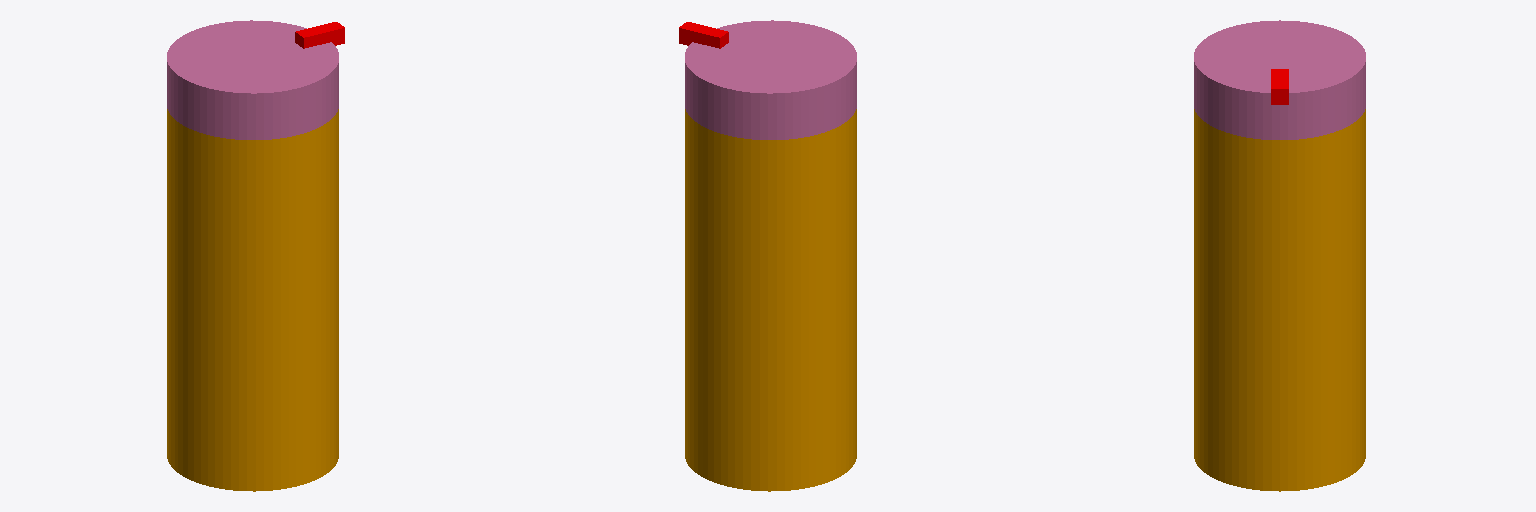
The robot description file, URDF, robot "tumbler":
<?xml version="1.0"?>
<!-- tumbler.urdf 의 6자유도 판.
     캡을 body 에 cap_spin(z회전) + cap_lift(z이동) + 여분 4개(cap_tx/ty 수평,
     cap_rx/ry 기울임) 사슬로 연결한다. 잠긴 동안 여분 4개는 screw_coupling 이
     강성 위치 드라이브로 0 에 고정하므로 기존 2자유도 판과 같은 거동이고,
     해제(180도) 순간 드라이브를 꺼서 캡이 완전 자유 강체처럼 움직인다
     (기울고, 미끄러지고, 계속 돈다). 2자유도 판은 해제 후에도 z 회전+상승만
     가능해서 손이 캡을 기울이거나 옆으로 빼낼 수 없었다.
     cap_spin 상한은 나사끝(180도)+2도 여유 (tumbler.urdf 의 주석 참조).
     해제 시 spin 한계 확장은 screw_coupling.release_bound() 가 담당한다. -->
<!-- make_cyl_tumbler.py 생성: cap r=50.2/h=30.0mm, body R=50.0/H=239.4mm, 64각 -->
<!-- spin friction 0.200 Nm -->
<robot name="tumbler">
  <link name="body">
    <visual>
      <geometry><mesh filename="meshes/tumbler_cyl_fric02_body.obj"/></geometry>
    </visual>
    <collision>
      <geometry><mesh filename="meshes/tumbler_cyl_fric02_body.obj"/></geometry>
    </collision>
    <inertial>
      <mass value="0.3"/>
      <origin xyz="0.020946 0.000643 0.134835"/>
      <inertia ixx="0.00167630" iyy="0.00206606" izz="0.00082941" ixy="0" ixz="0" iyz="0"/>
    </inertial>
  </link>

  <link name="cap_spinner">
    <inertial>
      <mass value="1e-4"/>
      <inertia ixx="1e-8" iyy="1e-8" izz="1e-8" ixy="0" ixz="0" iyz="0"/>
    </inertial>
  </link>
  <joint name="cap_spin" type="revolute">
    <parent link="body"/>
    <child link="cap_spinner"/>
    <origin xyz="0 0 0.225000"/>
    <axis xyz="0 0 1"/>
    <limit lower="-0.020000" upper="3.176499" effort="50.0" velocity="20.0"/>
    <dynamics damping="0.001" friction="0.200"/>
  </joint>

  <link name="cap_lifter">
    <inertial>
      <mass value="1e-4"/>
      <inertia ixx="1e-8" iyy="1e-8" izz="1e-8" ixy="0" ixz="0" iyz="0"/>
    </inertial>
  </link>
  <joint name="cap_lift" type="prismatic">
    <parent link="cap_spinner"/>
    <child link="cap_lifter"/>
    <origin xyz="0 0 0"/>
    <axis xyz="0 0 1"/>
    <limit lower="0.0" upper="0.13" effort="100.0" velocity="5.0"/>
    <mimic joint="cap_spin" multiplier="3.18309886e-03" offset="0.0"/>
  </joint>

  <!-- 여분 4자유도. 잠긴 동안 screw_coupling 이 강성 드라이브로 0 고정. -->
  <link name="cap_fx">
    <inertial>
      <mass value="1e-4"/>
      <inertia ixx="1e-8" iyy="1e-8" izz="1e-8" ixy="0" ixz="0" iyz="0"/>
    </inertial>
  </link>
  <joint name="cap_tx" type="prismatic">
    <parent link="cap_lifter"/>
    <child link="cap_fx"/>
    <origin xyz="0 0 0"/>
    <axis xyz="1 0 0"/>
    <limit lower="-0.5" upper="0.5" effort="100.0" velocity="5.0"/>
  </joint>

  <link name="cap_fy">
    <inertial>
      <mass value="1e-4"/>
      <inertia ixx="1e-8" iyy="1e-8" izz="1e-8" ixy="0" ixz="0" iyz="0"/>
    </inertial>
  </link>
  <joint name="cap_ty" type="prismatic">
    <parent link="cap_fx"/>
    <child link="cap_fy"/>
    <origin xyz="0 0 0"/>
    <axis xyz="0 1 0"/>
    <limit lower="-0.5" upper="0.5" effort="100.0" velocity="5.0"/>
  </joint>

  <link name="cap_frx">
    <inertial>
      <mass value="1e-4"/>
      <inertia ixx="1e-8" iyy="1e-8" izz="1e-8" ixy="0" ixz="0" iyz="0"/>
    </inertial>
  </link>
  <joint name="cap_rx" type="revolute">
    <parent link="cap_fy"/>
    <child link="cap_frx"/>
    <origin xyz="0 0 0"/>
    <axis xyz="1 0 0"/>
    <limit lower="-3.1416" upper="3.1416" effort="50.0" velocity="20.0"/>
  </joint>

  <joint name="cap_ry" type="revolute">
    <parent link="cap_frx"/>
    <child link="cap"/>
    <origin xyz="0 0 0"/>
    <axis xyz="0 1 0"/>
    <limit lower="-3.1416" upper="3.1416" effort="50.0" velocity="20.0"/>
  </joint>

  <link name="cap">
    <visual>
      <origin rpy="0 0 0" xyz="0.045 0 0.032"/>
      <geometry><box size="0.028 0.010 0.010"/></geometry>
      <material name="marker_red"><color rgba="1 0 0 1"/></material>
    </visual>
    <visual>
      <geometry><mesh filename="meshes/tumbler_cyl_fric02_cap.obj"/></geometry>
    </visual>
    <collision>
      <geometry><mesh filename="meshes/tumbler_cyl_fric02_cap.obj"/></geometry>
    </collision>
    <inertial>
      <mass value="0.05"/>
      <origin xyz="-0.000048 0.000284 0.015506"/>
      <inertia ixx="0.00004334" iyy="0.00004411" izz="0.00008291" ixy="0" ixz="0" iyz="0"/>
    </inertial>
  </link>

  <!-- 매끈한 원통이라 그대로는 미끄럽다. 나사산 대신 마찰로 그립을 만든다. -->
  <gazebo reference="cap"><mu1>2.0</mu1><mu2>2.0</mu2></gazebo>
  <gazebo reference="body"><mu1>2.0</mu1><mu2>2.0</mu2></gazebo>
</robot>

--- What the picture shows (computed from the rendered views, not written in the file) ---
The picture shows the robot from 3 angles, left to right: view 1: azimuth 30°, elevation 25°; view 2: azimuth 150°, elevation 25°; view 3: azimuth 270°, elevation 25°; orthographic projection.
Robot: tumbler — 7 links, 6 joints (3 revolute, 3 prismatic); root link body; default pose: every joint at zero.
Visible links, largest first — view 1: body, cap; view 2: body, cap; view 3: body, cap.
Boxes of the visible links, x1,y1,x2,y2 form: body: (167,109,338,491); cap: (167,20,344,139); body: (685,109,856,491); cap: (679,20,856,139); body: (1194,109,1365,491); cap: (1194,20,1365,139).
Bounding box of the posed robot: 0.1092 × 0.1004 × 0.262 m (x, y, z).
2 mesh visuals loaded from 2 distinct referenced files (2 OBJ).
